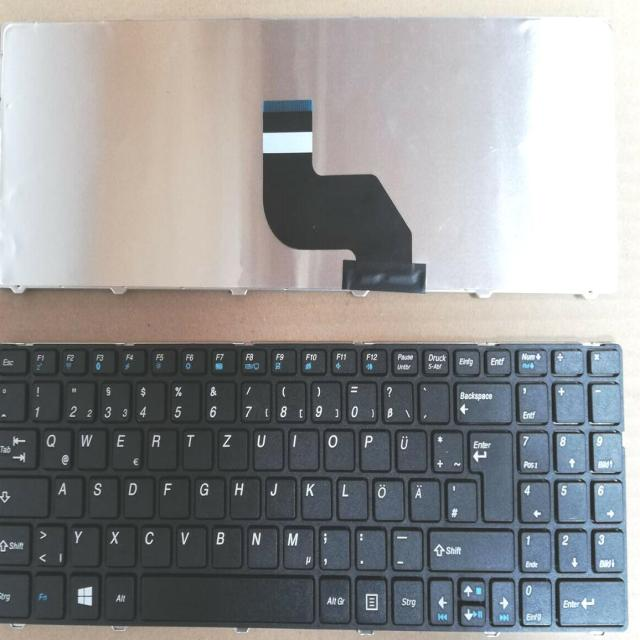0: (344, 378, 376, 422)
1: (28, 378, 58, 421)
2: (63, 378, 94, 421)
3: (98, 378, 130, 422)
4: (132, 377, 163, 420)
5: (167, 377, 198, 421)
6: (203, 378, 234, 421)
7: (238, 377, 270, 421)
8: (274, 377, 305, 421)
9: (308, 378, 340, 422)
a: (50, 472, 81, 516)
accent: (416, 378, 448, 422)
ae: (406, 476, 439, 520)
alt-left: (103, 571, 134, 619)
altgr-right: (317, 574, 350, 622)
b: (209, 522, 241, 567)
c: (138, 522, 169, 566)
caret: (0, 378, 23, 420)
comma: (317, 525, 349, 570)
d: (121, 473, 152, 517)
del: (452, 378, 510, 422)
e: (109, 424, 140, 468)
enter: (465, 427, 512, 520)
f: (156, 473, 187, 516)
g: (192, 472, 223, 517)
h: (227, 473, 259, 518)
hash: (444, 477, 476, 521)
i: (286, 426, 317, 469)
j: (263, 472, 295, 518)
k: (299, 474, 330, 518)
keyboard: (0, 332, 627, 631)
l: (335, 475, 366, 519)
less: (33, 520, 64, 565)
m: (280, 523, 312, 568)
minus: (388, 524, 421, 569)
n: (244, 521, 276, 567)
o: (321, 425, 353, 470)
oe: (371, 475, 403, 520)
p: (357, 426, 389, 470)
plus: (429, 426, 462, 471)
point: (353, 525, 385, 569)
q: (39, 424, 70, 468)
r: (144, 425, 175, 469)
s: (86, 472, 117, 516)
shift-left: (0, 519, 28, 564)
shift-lock: (0, 472, 47, 516)
shift-right: (427, 524, 514, 570)
space: (139, 571, 313, 622)
ss: (380, 378, 412, 422)
strg-left: (0, 569, 28, 618)
strg-right: (390, 576, 423, 624)
t: (180, 425, 210, 468)
tab: (0, 423, 34, 468)
u: (251, 425, 282, 469)
ue: (393, 426, 426, 471)
v: (174, 522, 205, 566)
w: (74, 424, 104, 467)
x: (103, 521, 133, 565)
y: (68, 521, 98, 565)
z: (215, 425, 246, 469)
